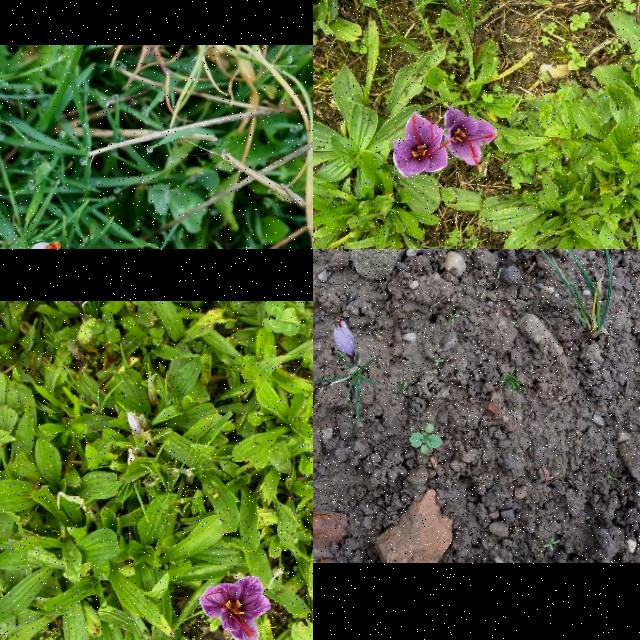flower: (201, 577, 271, 640), (392, 112, 452, 178), (444, 107, 498, 167), (334, 318, 356, 362), (28, 242, 61, 249), (423, 249, 455, 254)
